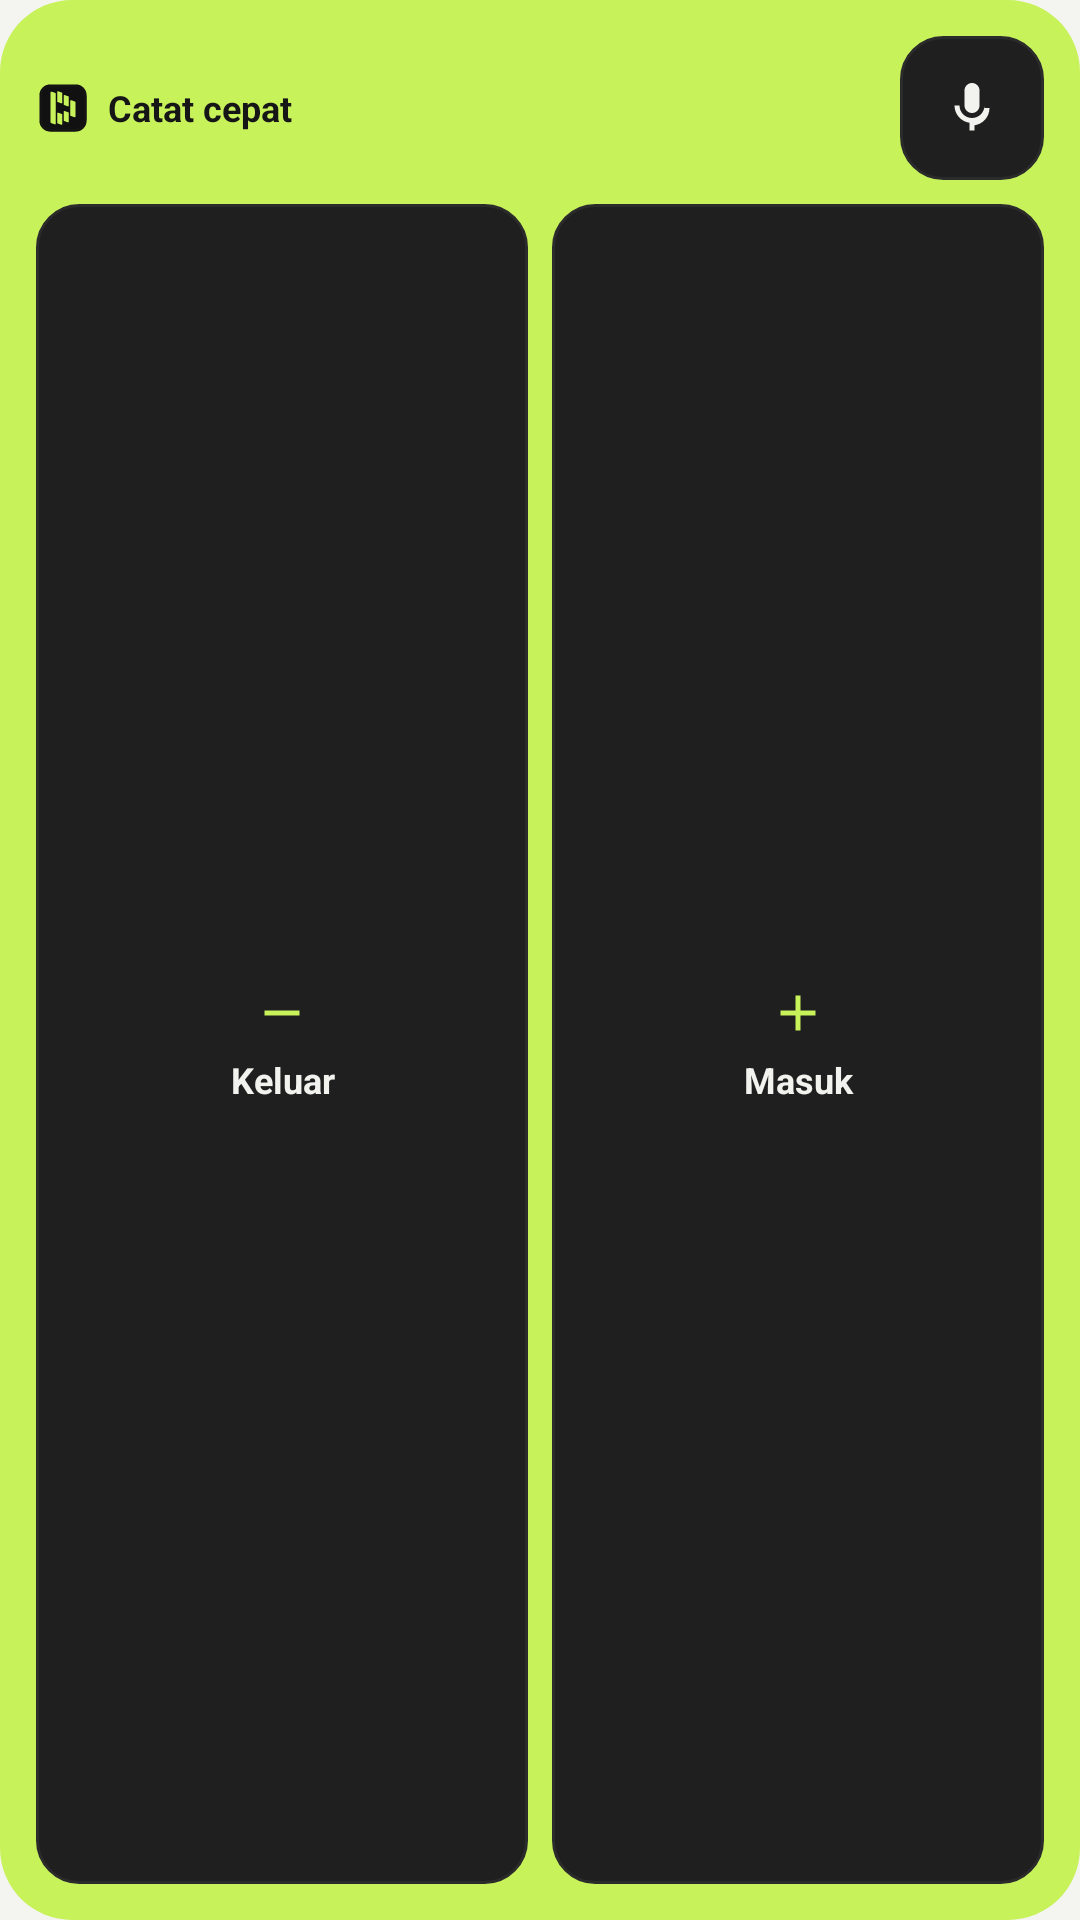

Named icons in this screenshot (1080px×1920px) and their centers, (x=x, y=y):
Catat transaksi dengan suara: (x=972, y=108)
widget add lime: (x=798, y=1013)
widget minus: (x=282, y=1013)
